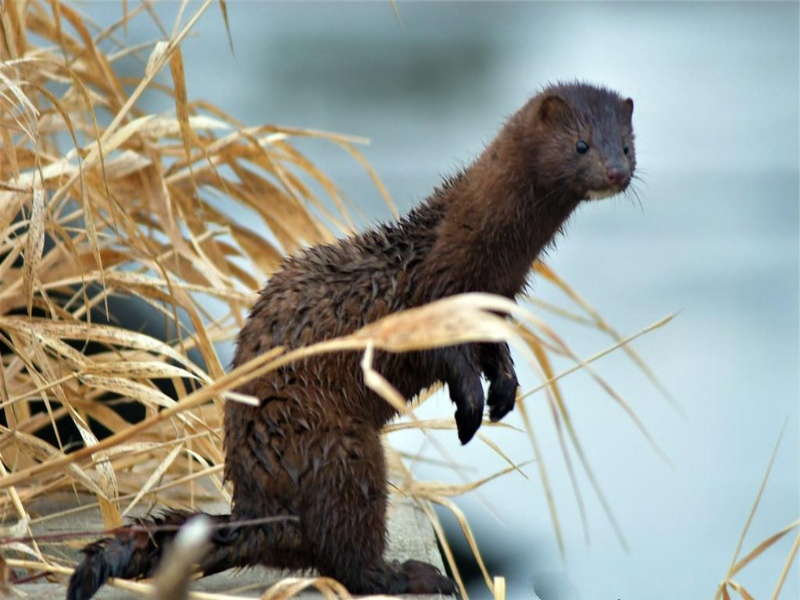minkish: (64, 77, 640, 598)
